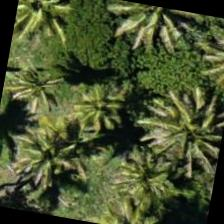Kelapa_Sawit: (142, 82, 223, 185), (102, 0, 200, 65), (10, 0, 83, 55)
